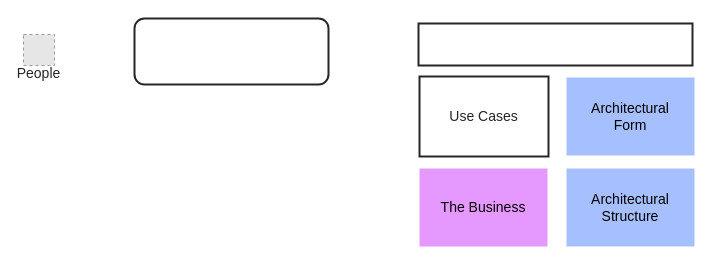
This 714x265 diagram has some shape labels left out. Grey dashed boxes stand in for pictures. Here are the shapes that lost their labels. From the top down, the centre of each, then its label:
At (231,51): "Use Case här...".
At (555,44): "Society".
